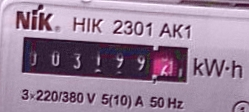0: (25, 46, 38, 68), (48, 47, 61, 67)
1: (92, 48, 103, 67)
3: (70, 50, 82, 70)
6: (159, 61, 170, 78)
9: (113, 49, 125, 70), (134, 52, 146, 71)
screen: (14, 32, 197, 90)
